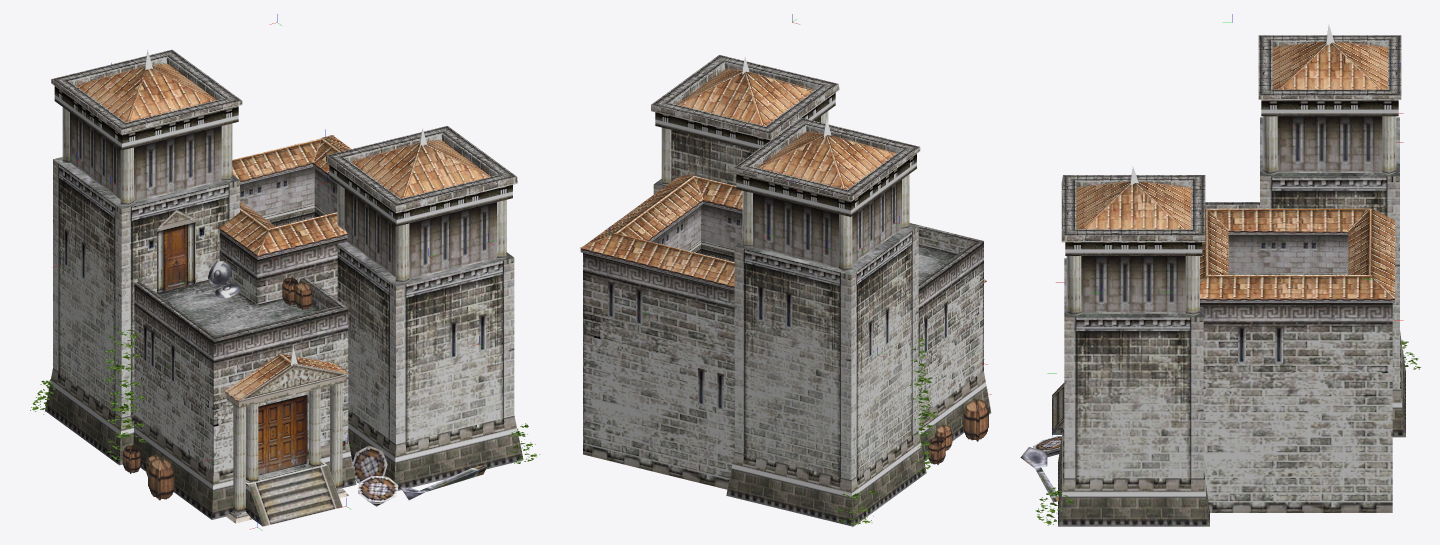
The model's file is idle.glb.
3 views of the same model, side by side, from view 1: azimuth 30°, elevation 25°; view 2: azimuth 150°, elevation 25°; view 3: azimuth 270°, elevation 25° (orthographic). The views are drawn at different scales.
Parts seen in each view (by area): view 1: building g fortress age3Model; view 2: building g fortress age3Model; view 3: building g fortress age3Model.
Boxes of the visible parts, <box> form: building g fortress age3Model: <box>30,49,539,526</box>; building g fortress age3Model: <box>580,55,991,526</box>; building g fortress age3Model: <box>1020,24,1420,526</box>.
Size of the model in its own units: 10.62 by 12.38 by 10.41.
Materials: 5 (4 with a texture image).
